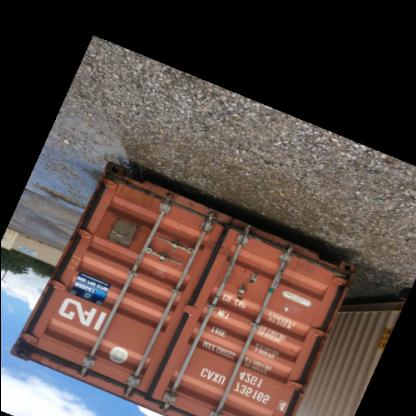Damage: (93, 170, 221, 216), (243, 236, 340, 273), (198, 238, 233, 266)
